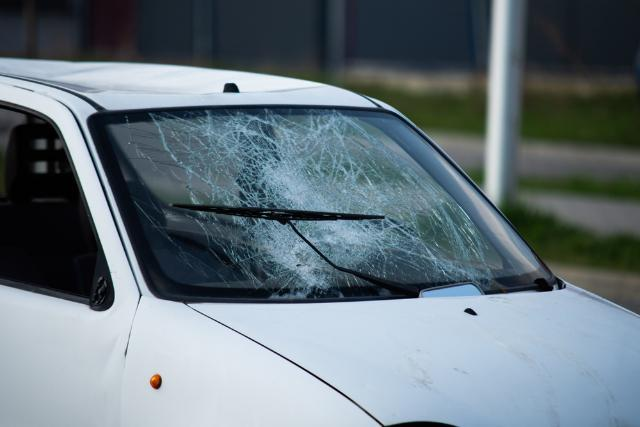dent: (55, 63, 323, 95)
glass shatter: (92, 106, 554, 299)
